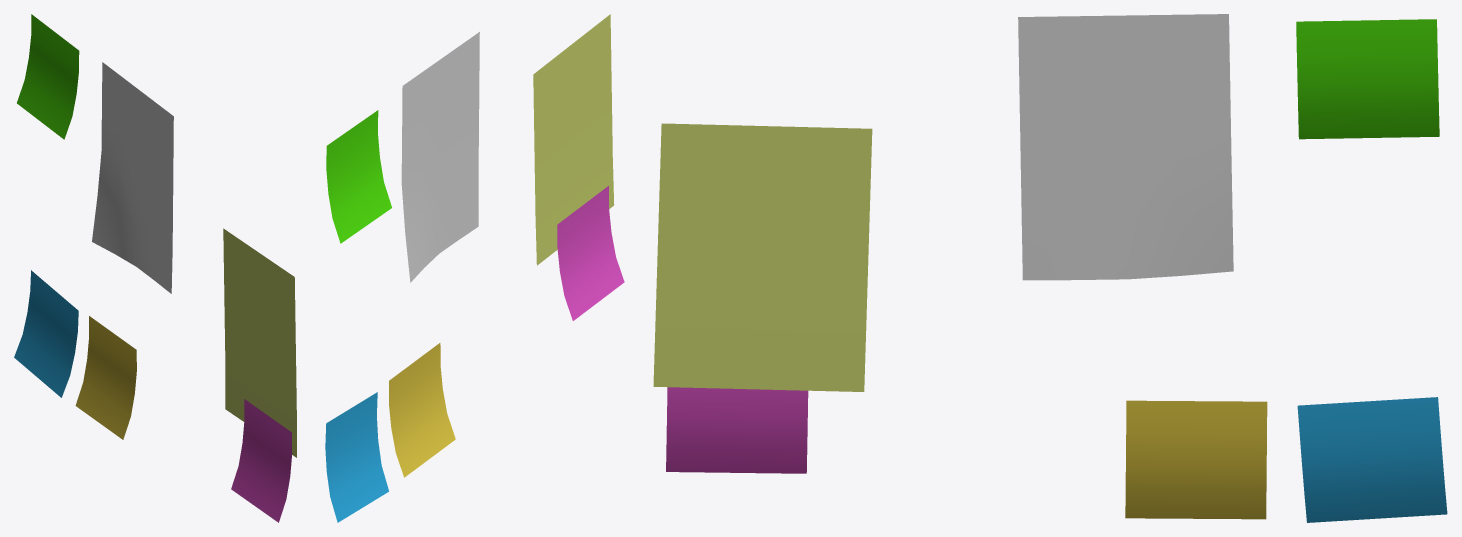
File: Papers.fbx
3 views of the same model, side by side, from view 1: azimuth 30°, elevation 25°; view 2: azimuth 150°, elevation 25°; view 3: azimuth 270°, elevation 25° (orthographic). The views are drawn at different scales.
Parts seen in each view (by area): view 1: Papers; view 2: Papers; view 3: Papers.
Part boxes in pixels (x1,y1,x2,y2): Papers: (14, 14, 296, 522); Papers: (325, 14, 624, 522); Papers: (653, 14, 1447, 522).
Bounding box in the file's own units: 1.09 × 25.39 × 35.19.
